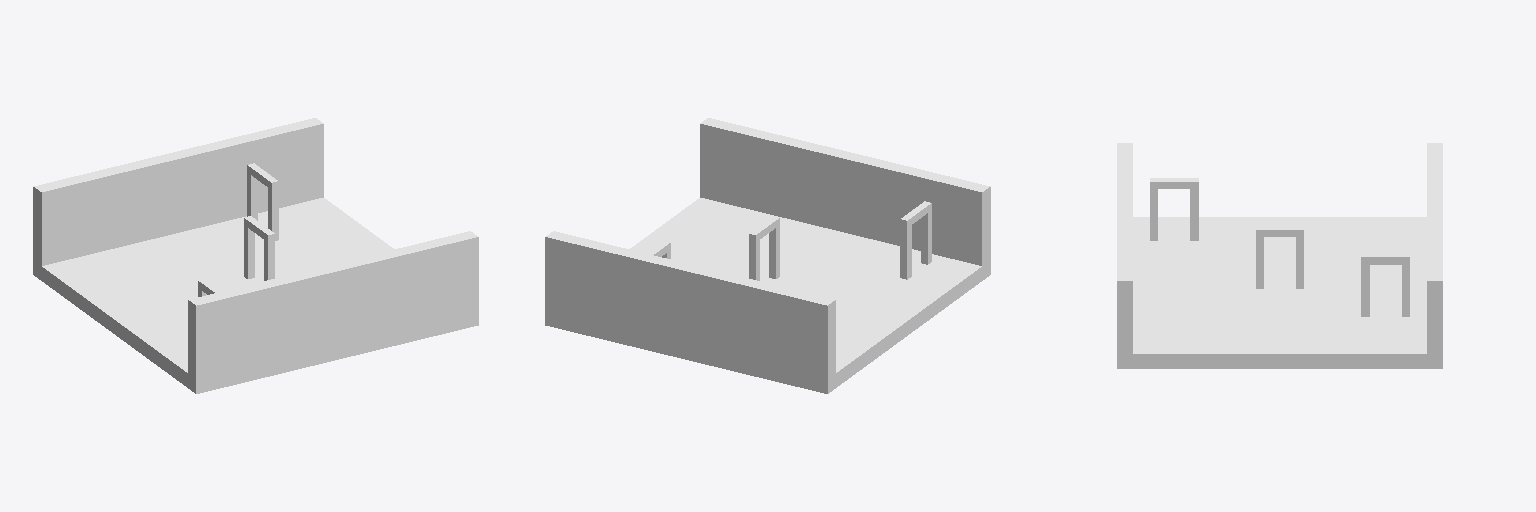
File: module3.obj
The picture shows the model from 3 angles: view 1: azimuth 30°, elevation 25°; view 2: azimuth 150°, elevation 25°; view 3: azimuth 270°, elevation 25°; orthographic projection.
Parts seen in each view (by area): view 1: object 1; view 2: object 1; view 3: object 1.
Boxes of the visible parts, <box> form: object 1: <box>33,118,478,393</box>; object 1: <box>545,118,990,393</box>; object 1: <box>1117,143,1442,368</box>.
Size of the model in its own units: 4 by 1.2 by 4.